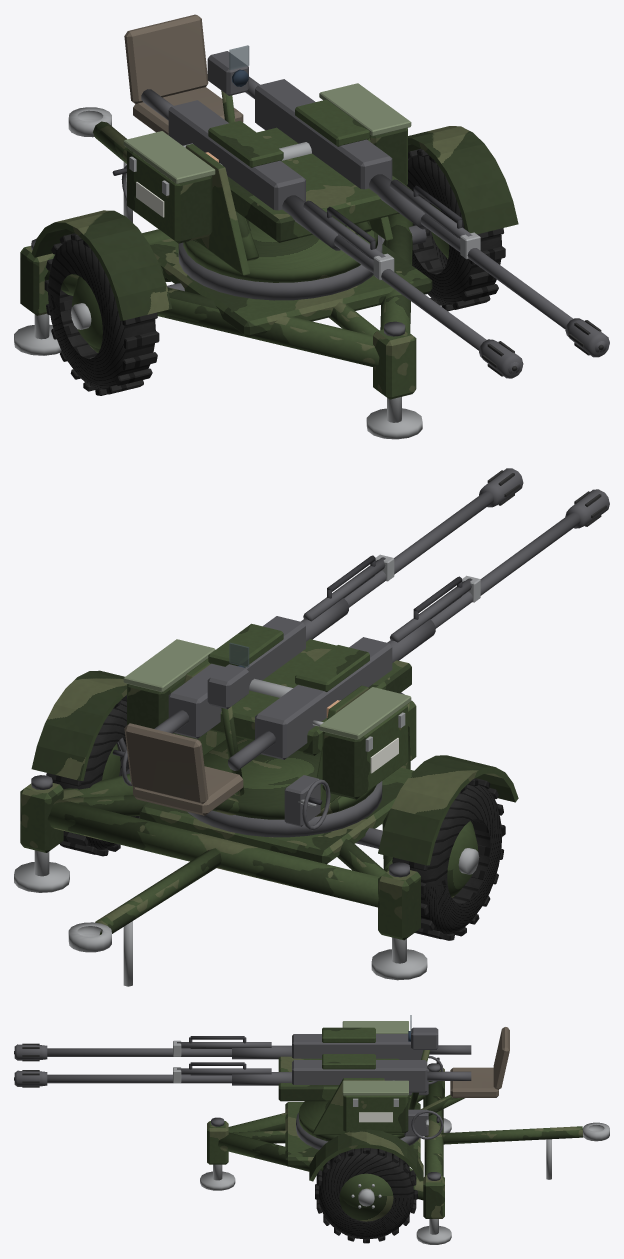
3 renders of one model, top to bottom at view 1: azimuth 30°, elevation 25°; view 2: azimuth 150°, elevation 25°; view 3: azimuth 270°, elevation 25°, orthographic. The views are drawn at different scales.
Parts seen in each view (by area): view 1: ZU23_base_geo, gun_pitch_geo, turret_yaw_geo, wheel_1_geo, ammo_box_1_geo, wheel_0_geo, barrel_1_geo, barrel_0_geo, ammo_box_0_geo; view 2: ZU23_base_geo, gun_pitch_geo, turret_yaw_geo, wheel_1_geo, ammo_box_1_geo, barrel_1_geo, barrel_0_geo, ammo_box_0_geo, wheel_0_geo; view 3: ZU23_base_geo, gun_pitch_geo, wheel_0_geo, barrel_0_geo, barrel_1_geo, turret_yaw_geo, ammo_box_0_geo, ammo_box_1_geo.
Boxes of the visible parts, left/top/right/bottom form: ZU23_base_geo: left=14, top=14, right=518, bottom=439; gun_pitch_geo: left=141, top=76, right=411, bottom=242; turret_yaw_geo: left=112, top=45, right=392, bottom=282; wheel_1_geo: left=44, top=233, right=159, bottom=395; ammo_box_1_geo: left=123, top=131, right=218, bottom=243; wheel_0_geo: left=407, top=149, right=505, bottom=311; barrel_1_geo: left=282, top=195, right=523, bottom=378; barrel_0_geo: left=369, top=174, right=609, bottom=357; ammo_box_0_geo: left=319, top=83, right=411, bottom=185; ZU23_base_geo: left=14, top=670, right=518, bottom=986; gun_pitch_geo: left=154, top=616, right=411, bottom=770; turret_yaw_geo: left=112, top=642, right=376, bottom=830; wheel_1_geo: left=392, top=778, right=505, bottom=940; ammo_box_1_geo: left=319, top=687, right=411, bottom=799; barrel_1_geo: left=387, top=489, right=609, bottom=662; barrel_0_geo: left=301, top=468, right=523, bottom=641; ammo_box_0_geo: left=123, top=639, right=215, bottom=733; wheel_0_geo: left=46, top=695, right=140, bottom=856; ZU23_base_geo: left=200, top=1027, right=609, bottom=1244; gun_pitch_geo: left=278, top=1027, right=471, bottom=1101; wheel_0_geo: left=315, top=1148, right=417, bottom=1243; barrel_0_geo: left=14, top=1062, right=291, bottom=1087; barrel_1_geo: left=14, top=1036, right=291, bottom=1061; turret_yaw_geo: left=299, top=1015, right=443, bottom=1141; ammo_box_0_geo: left=342, top=1080, right=408, bottom=1132; ammo_box_1_geo: left=342, top=1021, right=408, bottom=1033.
Size of the model in its own units: 2.15 by 1.37 by 4.41.
Materials: 12 (2 with a texture image).
